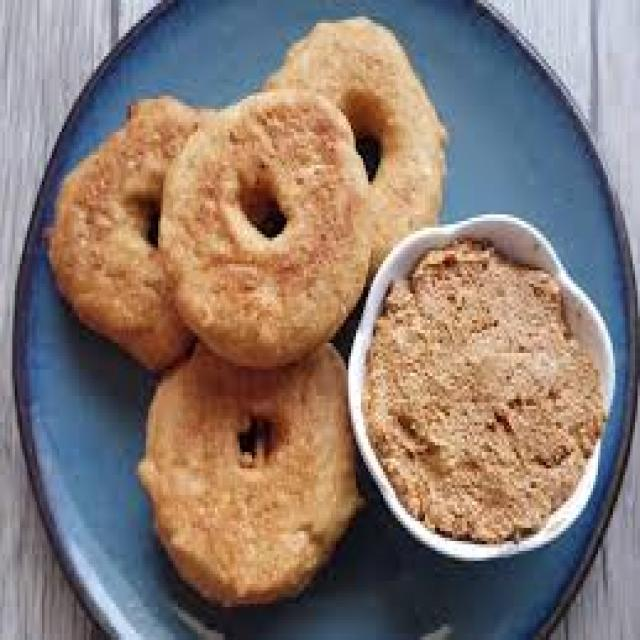MEDU VADA: (138, 343, 361, 604), (158, 89, 366, 366), (262, 16, 445, 267), (49, 99, 213, 366)
